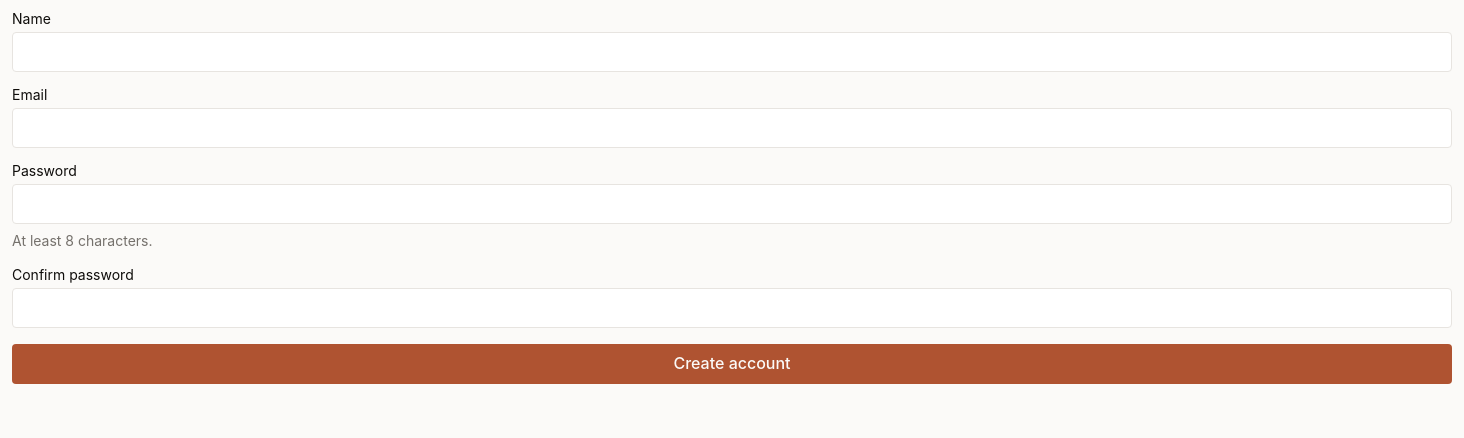
Scenario: SignUpForm › shows a friendly error when the email is already registered
Type "Trevor" into the field labelled "Name". click: (732, 52)
box: x1=12 y1=32 x2=1452 y2=72
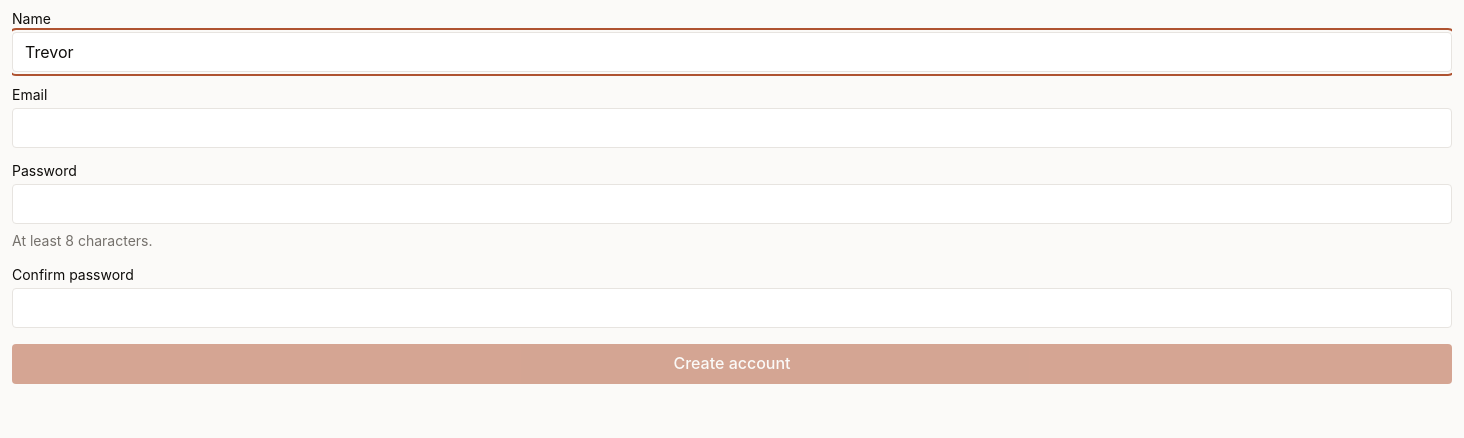
Type "chef@example.com" into the field labelled "Email". click: (732, 128)
box: x1=12 y1=108 x2=1452 y2=148
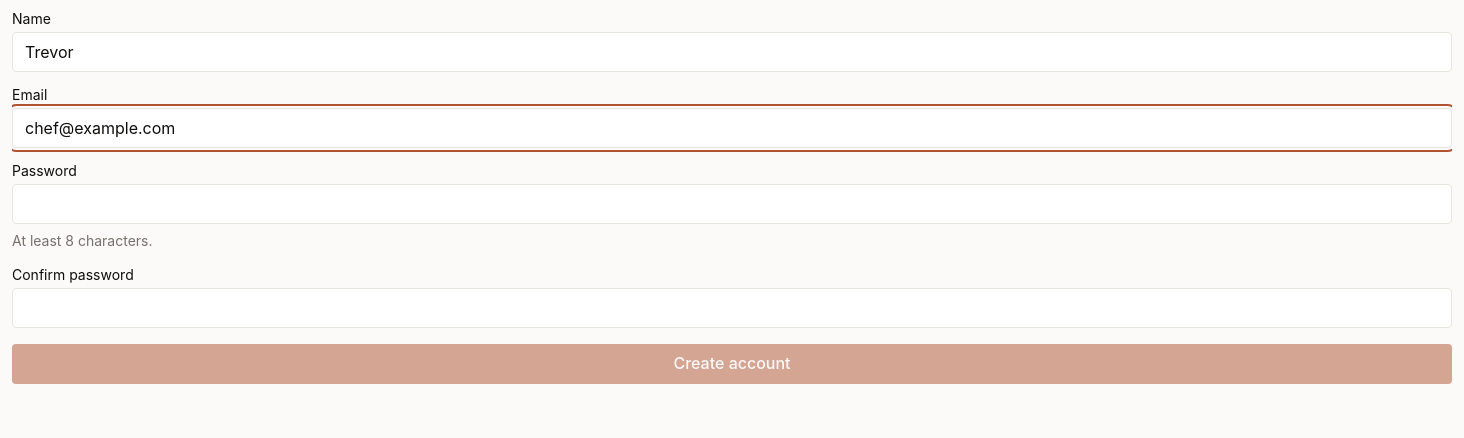
Type "hunter2222" into the password field labelled "Password". click: (732, 204)
box: x1=12 y1=184 x2=1452 y2=224
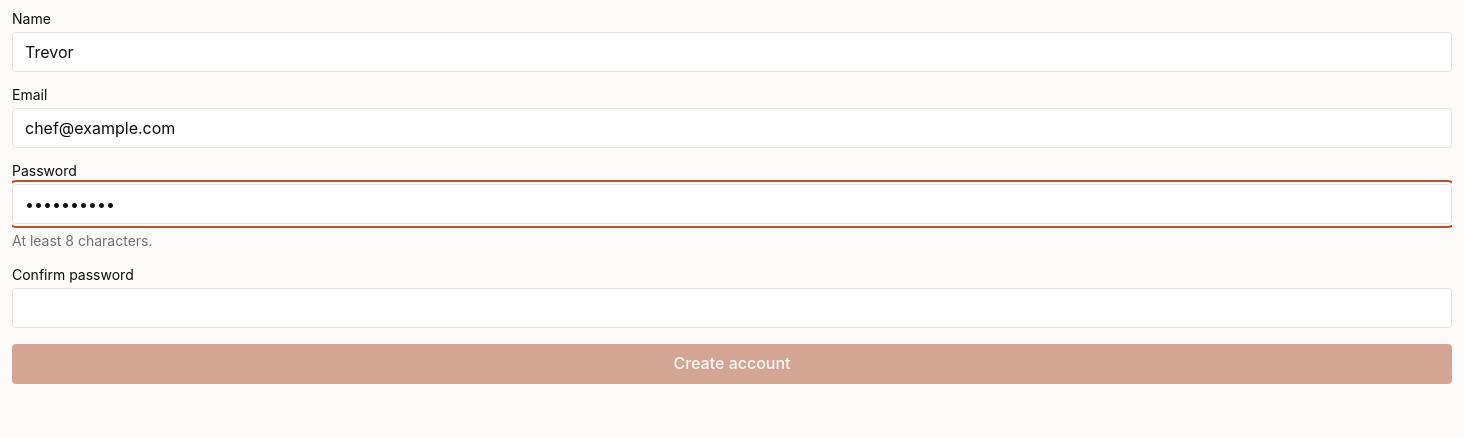
Type "hunter2222" into the password field labelled "Confirm password". click: (732, 308)
box: x1=12 y1=288 x2=1452 y2=328
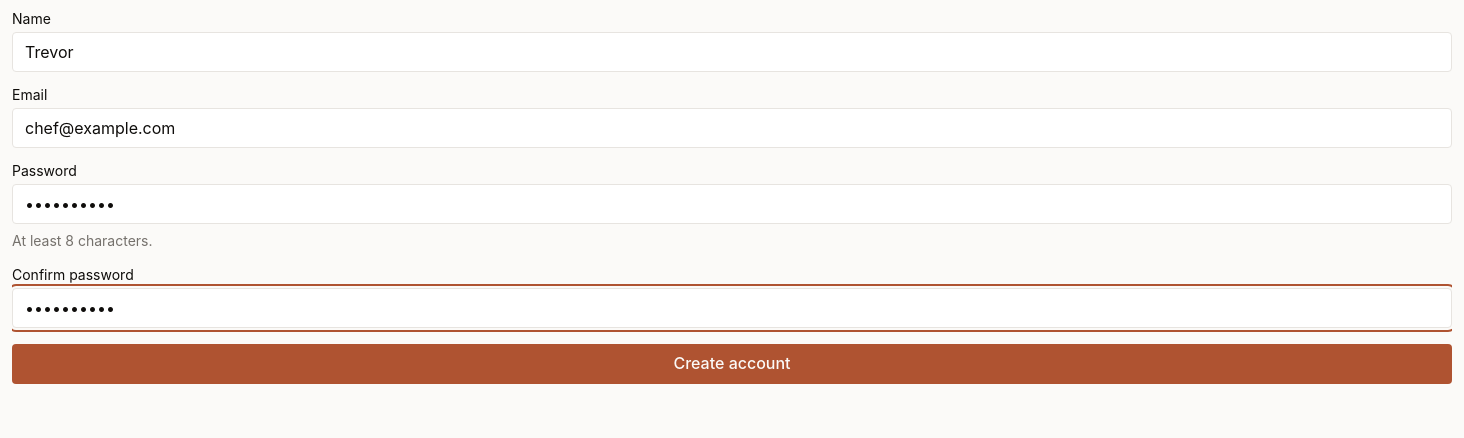
Click the button "Create account". click: click(732, 364)
box: x1=12 y1=344 x2=1452 y2=384
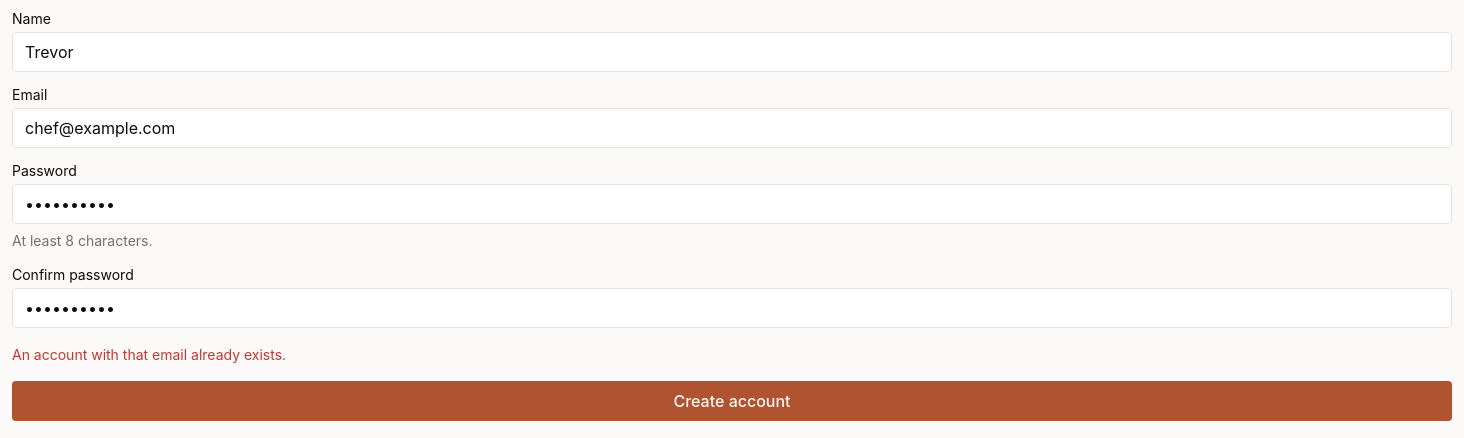
expect the text "An account with that email already exists." is shown: met, box x1=12 y1=346 x2=286 y2=363
